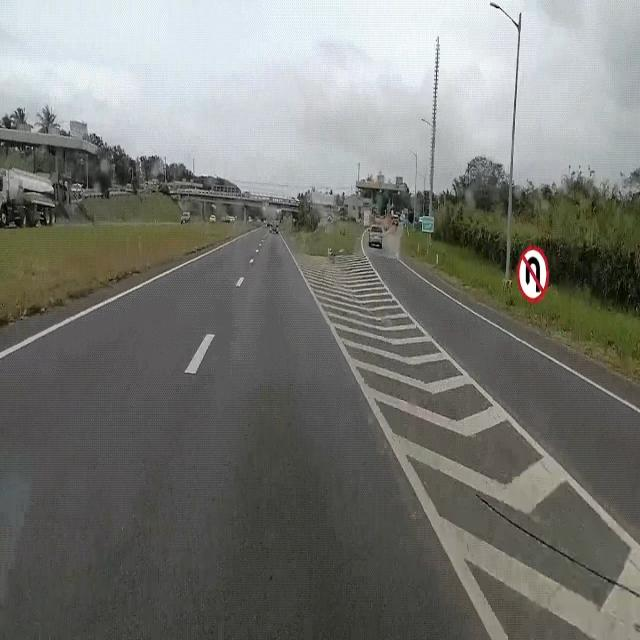Demi-Tour-Interdit: (514, 238, 552, 312)
